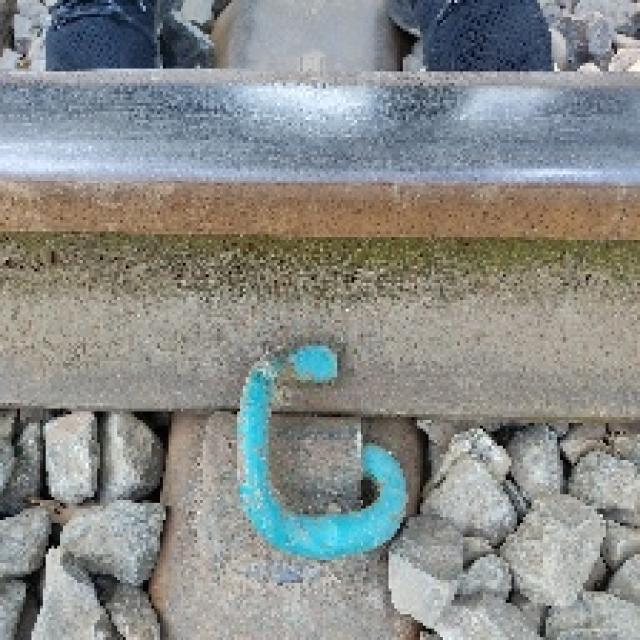Good Fasteners: (154, 343, 414, 637)
